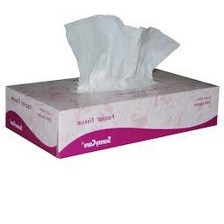book: (0, 60, 224, 163)
tissue: (59, 9, 185, 98)
